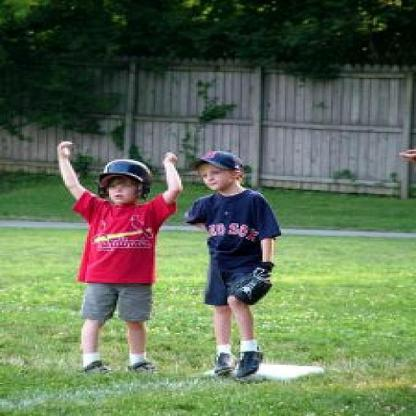face: (200, 163, 231, 192), (109, 176, 136, 205)
